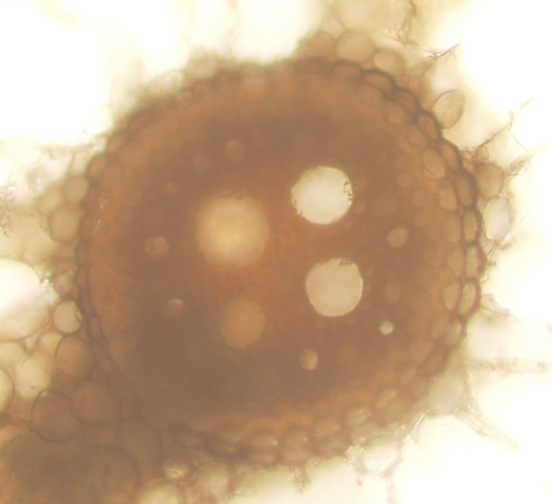lm: (195, 190, 270, 270), (303, 257, 364, 318), (290, 167, 353, 225), (216, 297, 268, 350)
